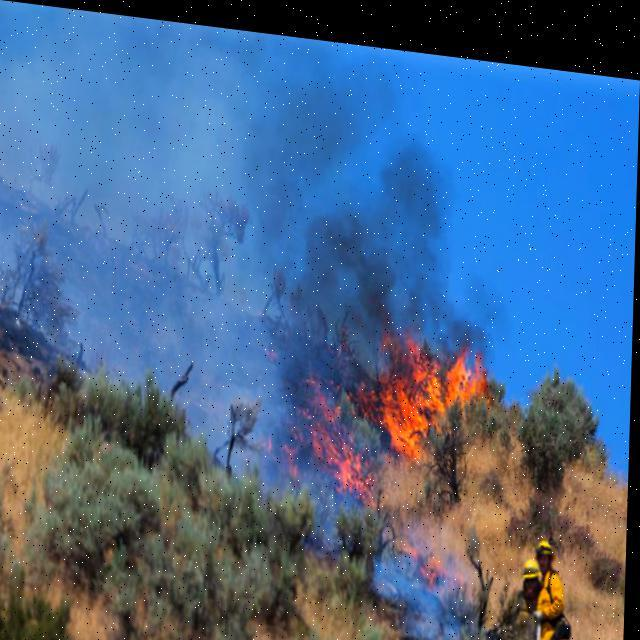Fire: (368, 285, 510, 472), (258, 370, 378, 493)
